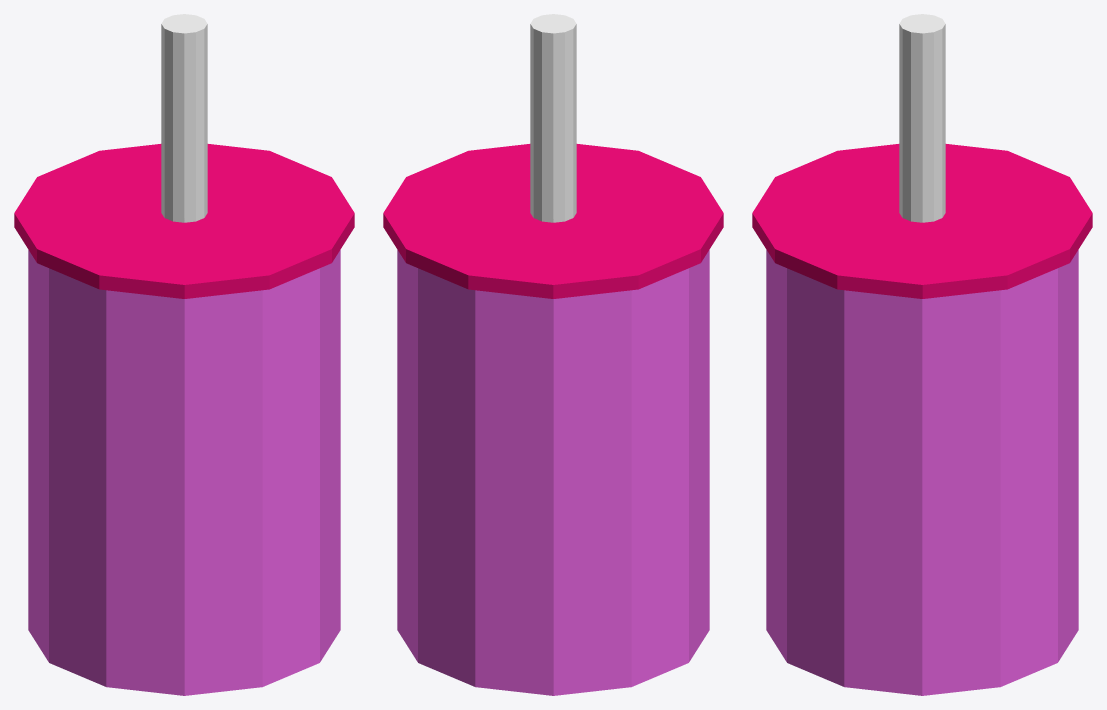
The model's file is Milkshake.fbx.
3 views of the same model, side by side, from view 1: azimuth 30°, elevation 25°; view 2: azimuth 150°, elevation 25°; view 3: azimuth 270°, elevation 25° (orthographic).
Parts seen in each view (by area): view 1: Milkshake; view 2: Milkshake; view 3: Milkshake.
Part boxes in pixels (box(x1,y1,x2,y2)): Milkshake: box(14, 14, 354, 695); Milkshake: box(383, 14, 723, 695); Milkshake: box(752, 14, 1092, 695).
Bounding box in the file's own units: 11.72 × 23.03 × 11.72.
Materials: 1 (1 with a texture image).
